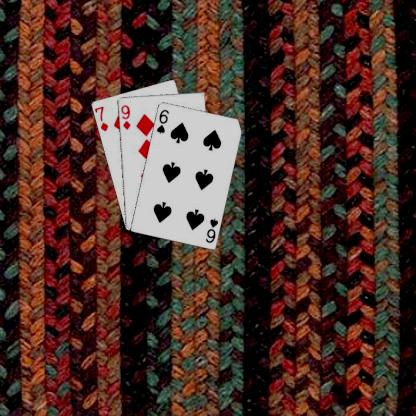6S: (203, 216, 219, 244), (154, 107, 170, 134)
7D: (93, 103, 109, 133)
9D: (118, 102, 132, 130)
